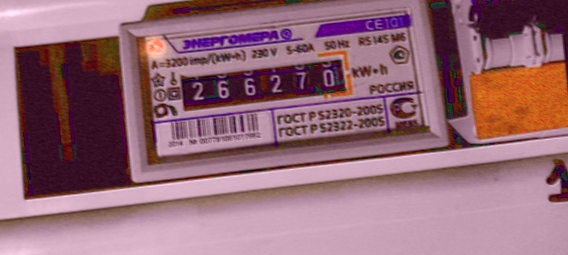0: (323, 65, 337, 87)
2: (191, 77, 207, 100), (270, 70, 284, 92)
6: (217, 77, 232, 98), (243, 74, 258, 94)
7: (295, 68, 310, 90)
screen: (170, 43, 362, 120)
